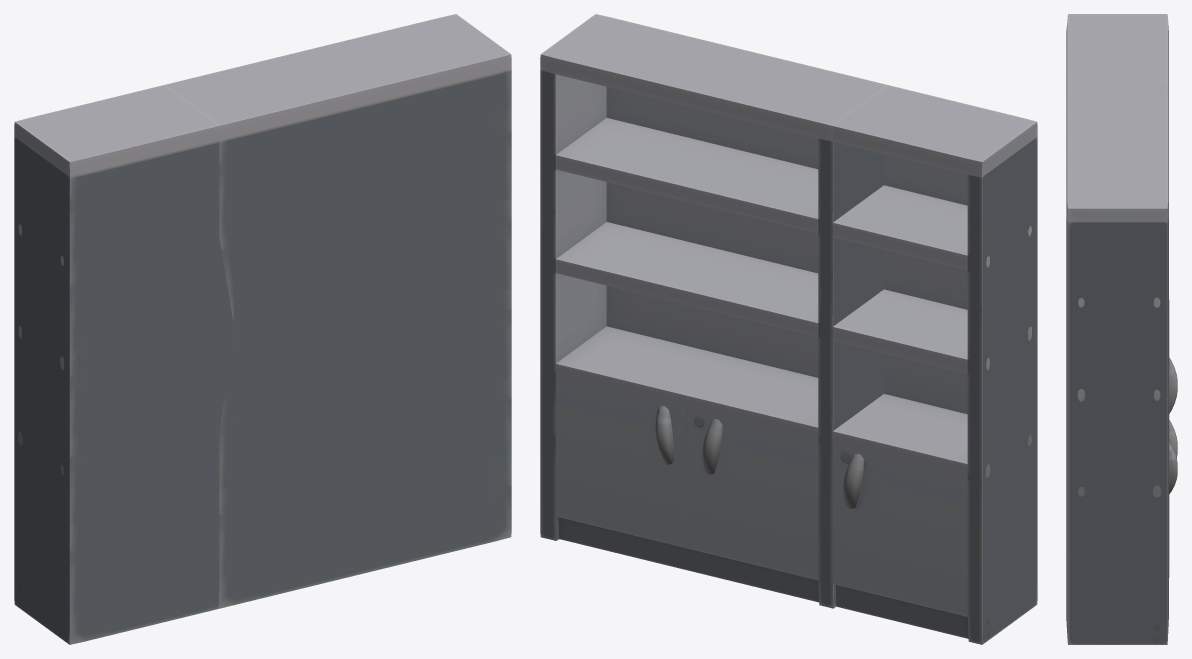
The model's file is OfficeCabinet01__3.fbx.
3 renders of one model, left to right at view 1: azimuth 30°, elevation 25°; view 2: azimuth 150°, elevation 25°; view 3: azimuth 270°, elevation 25°, orthographic. The views are drawn at different scales.
Parts seen in each view (by area): view 1: OfficeCabinet01B; view 2: OfficeCabinet01B; view 3: OfficeCabinet01B.
Boxes of the visible parts, x1,y1,x2,y2 form: OfficeCabinet01B: (14, 14, 511, 644); OfficeCabinet01B: (540, 14, 1037, 644); OfficeCabinet01B: (1066, 14, 1177, 644).
Bounding box in the file's own units: 2.43 × 2.54 × 0.5892.
Materials: 1 (1 with a texture image).
